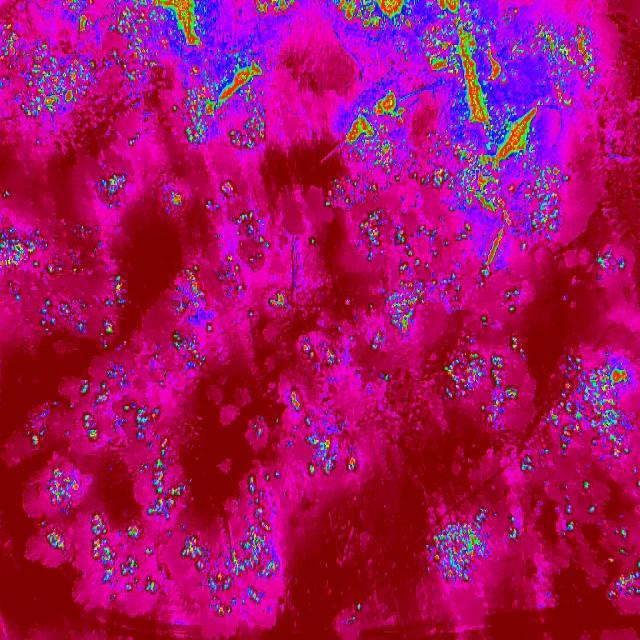fire: (0, 168, 390, 621), (326, 1, 597, 274), (100, 0, 312, 151), (440, 333, 640, 477), (505, 479, 640, 612), (0, 0, 103, 129), (416, 507, 496, 591), (383, 273, 468, 336), (474, 278, 524, 328), (590, 250, 632, 282)
